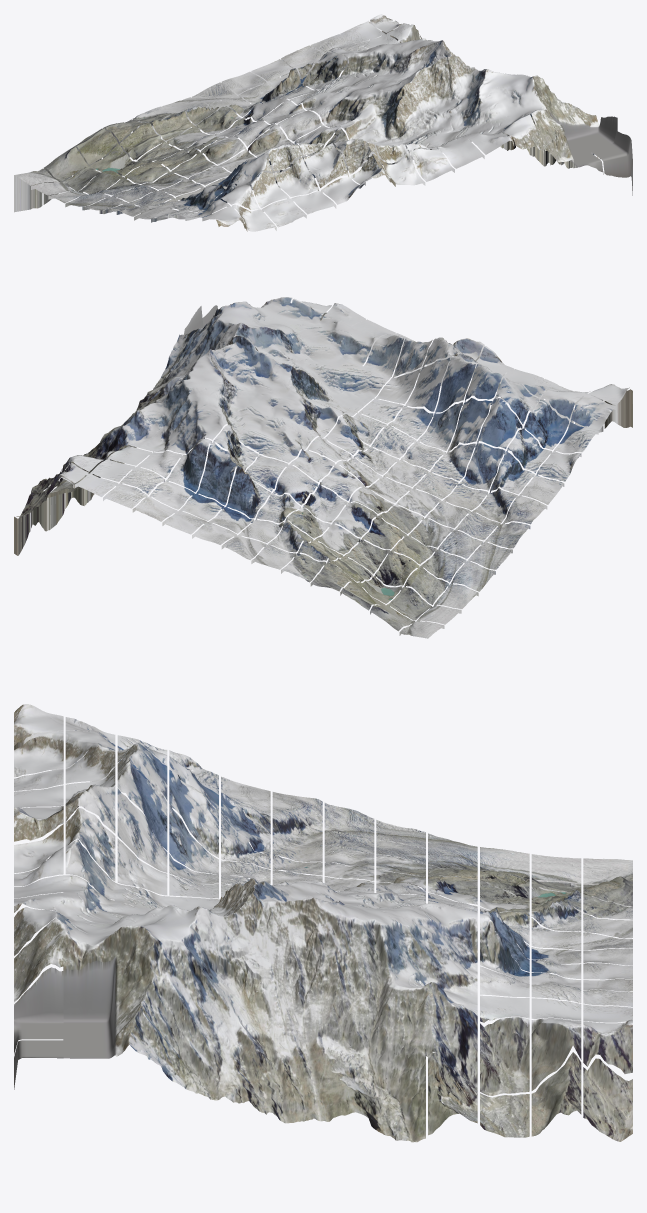
File: dufourspitze_terrain.glb
3 views of the same model, one above another, from view 1: azimuth 30°, elevation 25°; view 2: azimuth 150°, elevation 25°; view 3: azimuth 270°, elevation 25° (orthographic). The views are drawn at different scales.
Parts seen in each view (by area): view 1: terrain; view 2: terrain; view 3: terrain.
Boxes of the visible parts, x1,y1,x2,y2 form: terrain: (14,14,632,231); terrain: (14,297,632,638); terrain: (14,704,632,1142).
Size of the model in its own units: 6998 by 2803 by 5979.
Materials: 1 (1 with a texture image).
